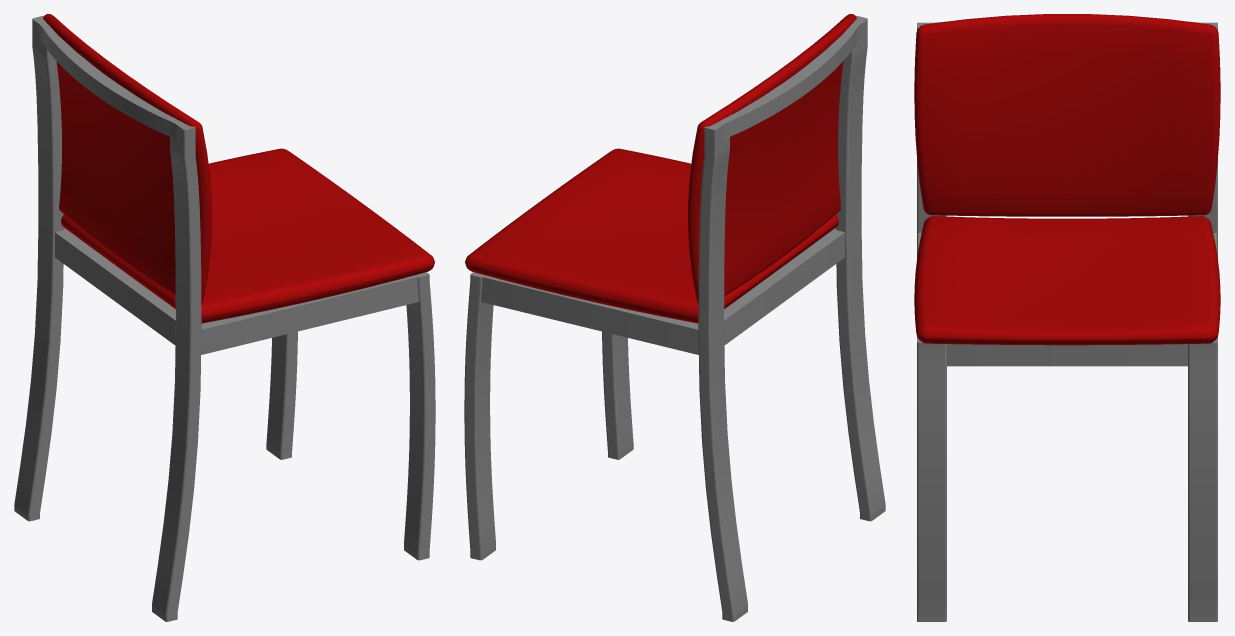
File: sweethome3d-lucapresidente-chair.glb
3 renders of one model, left to right at view 1: azimuth 30°, elevation 25°; view 2: azimuth 150°, elevation 25°; view 3: azimuth 270°, elevation 25°, orthographic.
Parts seen in each view (by area): view 1: ChamferBox07_7, ChamferBox08_8, Loft14_2, Loft03_1, Line65_5, Loft15_4, Rectangle16_6, Loft04_3; view 2: ChamferBox07_7, ChamferBox08_8, Loft03_1, Loft14_2, Line65_5, Loft04_3, Rectangle16_6, Loft15_4; view 3: ChamferBox08_8, ChamferBox07_7, Loft04_3, Loft15_4, Line65_5, Loft03_1, Loft14_2.
Boxes of the visible parts, x1=… form: ChamferBox07_7: x1=61, y1=148, x2=434, y2=323; ChamferBox08_8: x1=43, y1=14, x2=211, y2=303; Loft14_2: x1=152, y1=137, x2=201, y2=621; Loft03_1: x1=14, y1=35, x2=63, y2=521; Line65_5: x1=55, y1=228, x2=425, y2=354; Loft15_4: x1=404, y1=272, x2=435, y2=560; Rectangle16_6: x1=32, y1=16, x2=195, y2=145; Loft04_3: x1=266, y1=331, x2=297, y2=459; ChamferBox07_7: x1=465, y1=148, x2=838, y2=323; ChamferBox08_8: x1=688, y1=14, x2=856, y2=303; Loft03_1: x1=698, y1=137, x2=747, y2=621; Loft14_2: x1=836, y1=35, x2=885, y2=521; Line65_5: x1=475, y1=228, x2=844, y2=354; Loft04_3: x1=464, y1=272, x2=495, y2=560; Rectangle16_6: x1=704, y1=16, x2=867, y2=145; Loft15_4: x1=602, y1=331, x2=633, y2=459; ChamferBox08_8: x1=914, y1=14, x2=1220, y2=216; ChamferBox07_7: x1=914, y1=216, x2=1220, y2=345; Loft04_3: x1=1188, y1=337, x2=1217, y2=621; Loft15_4: x1=917, y1=337, x2=946, y2=621; Line65_5: x1=918, y1=233, x2=1216, y2=366; Loft03_1: x1=1188, y1=160, x2=1217, y2=336; Loft14_2: x1=917, y1=160, x2=946, y2=336.
Bounding box in the file's own units: 45.81 × 78.98 × 44.73.
